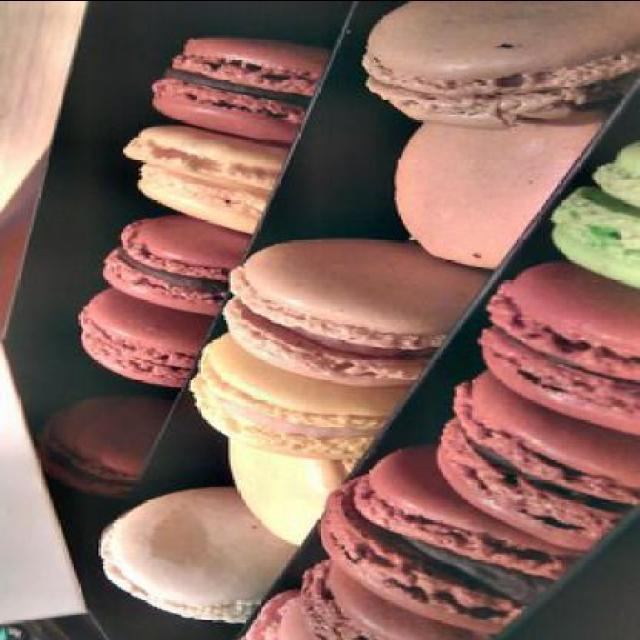Macaron: (33, 0, 638, 638)
